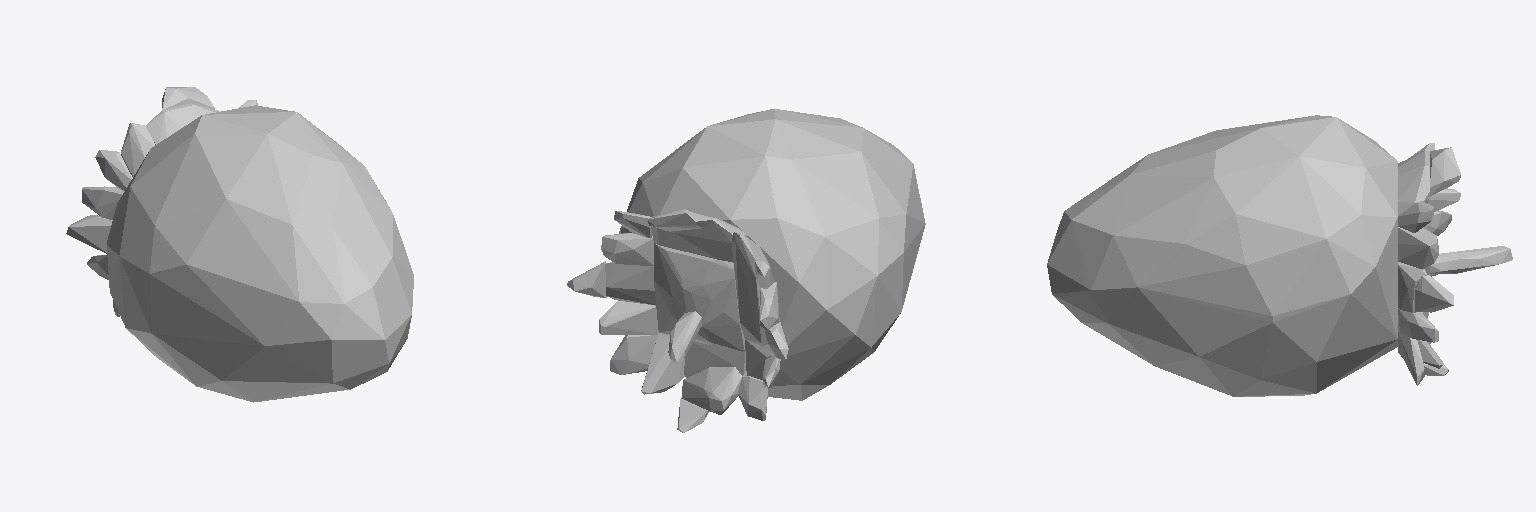
File: Strawberry_align_vhacd.obj
3 views of the same model, side by side, from view 1: azimuth 30°, elevation 25°; view 2: azimuth 150°, elevation 25°; view 3: azimuth 270°, elevation 25° (orthographic).
Parts seen in each view (by area): view 1: convex_0, convex_17, convex_3, convex_6, convex_11, convex_12, convex_16; view 2: convex_0, convex_15, convex_3, convex_17, convex_20, convex_18, convex_9, convex_7, convex_21, convex_8, convex_13, convex_1 (+8 smaller); view 3: convex_0, convex_17, convex_1, convex_21, convex_16, convex_10, convex_9, convex_18, convex_8, convex_14.
Boxes of the visible parts, x1=… form: convex_0: x1=107, y1=105, x2=413, y2=402; convex_17: x1=146, y1=103, x2=219, y2=144; convex_3: x1=121, y1=123, x2=154, y2=176; convex_6: x1=66, y1=215, x2=112, y2=253; convex_11: x1=82, y1=186, x2=123, y2=219; convex_12: x1=95, y1=150, x2=132, y2=191; convex_16: x1=162, y1=87, x2=214, y2=109; convex_0: x1=619, y1=109, x2=925, y2=400; convex_15: x1=654, y1=243, x2=745, y2=351; convex_3: x1=731, y1=232, x2=770, y2=346; convex_17: x1=651, y1=214, x2=746, y2=262; convex_20: x1=681, y1=367, x2=741, y2=414; convex_18: x1=605, y1=262, x2=655, y2=305; convex_9: x1=599, y1=301, x2=658, y2=334; convex_7: x1=641, y1=333, x2=684, y2=394; convex_21: x1=601, y1=233, x2=653, y2=265; convex_8: x1=610, y1=335, x2=657, y2=374; convex_13: x1=684, y1=341, x2=746, y2=377; convex_1: x1=668, y1=311, x2=701, y2=362; convex_0: x1=1047, y1=115, x2=1397, y2=396; convex_17: x1=1398, y1=151, x2=1429, y2=215; convex_1: x1=1430, y1=246, x2=1512, y2=273; convex_21: x1=1398, y1=227, x2=1438, y2=269; convex_16: x1=1430, y1=147, x2=1460, y2=196; convex_10: x1=1415, y1=275, x2=1453, y2=312; convex_9: x1=1398, y1=308, x2=1438, y2=342; convex_18: x1=1398, y1=262, x2=1426, y2=312; convex_8: x1=1398, y1=332, x2=1424, y2=385; convex_14: x1=1398, y1=201, x2=1434, y2=232.
Size of the model in its own units: 0.048 by 0.048 by 0.0786.